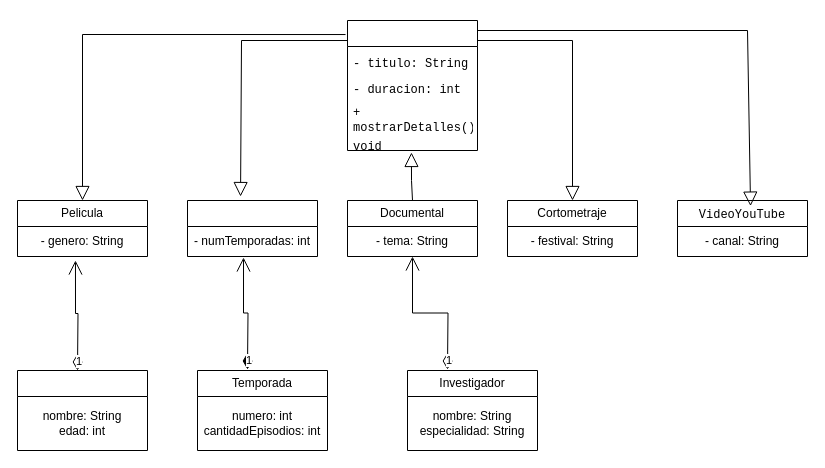
This 825x468 diagram has some shape labels left out. The shapes that lost their labels are listed below. From the top down, each one's box as (x1, y1, x2, y2) in pixels, then its label:
(346, 20, 478, 150): ContenidoAudiovisual
(186, 200, 318, 256): SerieDeTV
(16, 370, 148, 450): Actor
